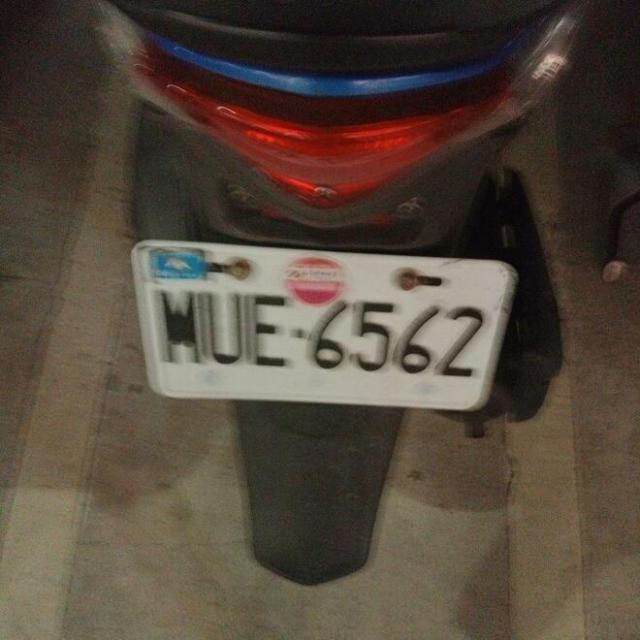W: (124, 212, 522, 433)
